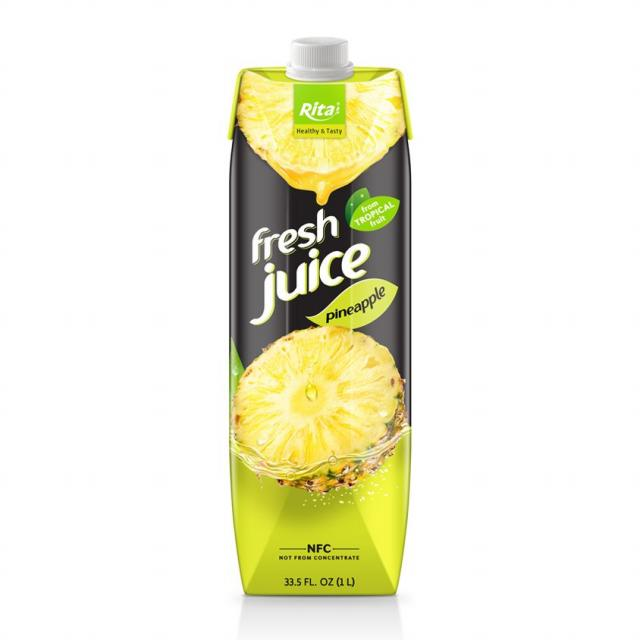non_white_jug: (79, 0, 314, 388)
